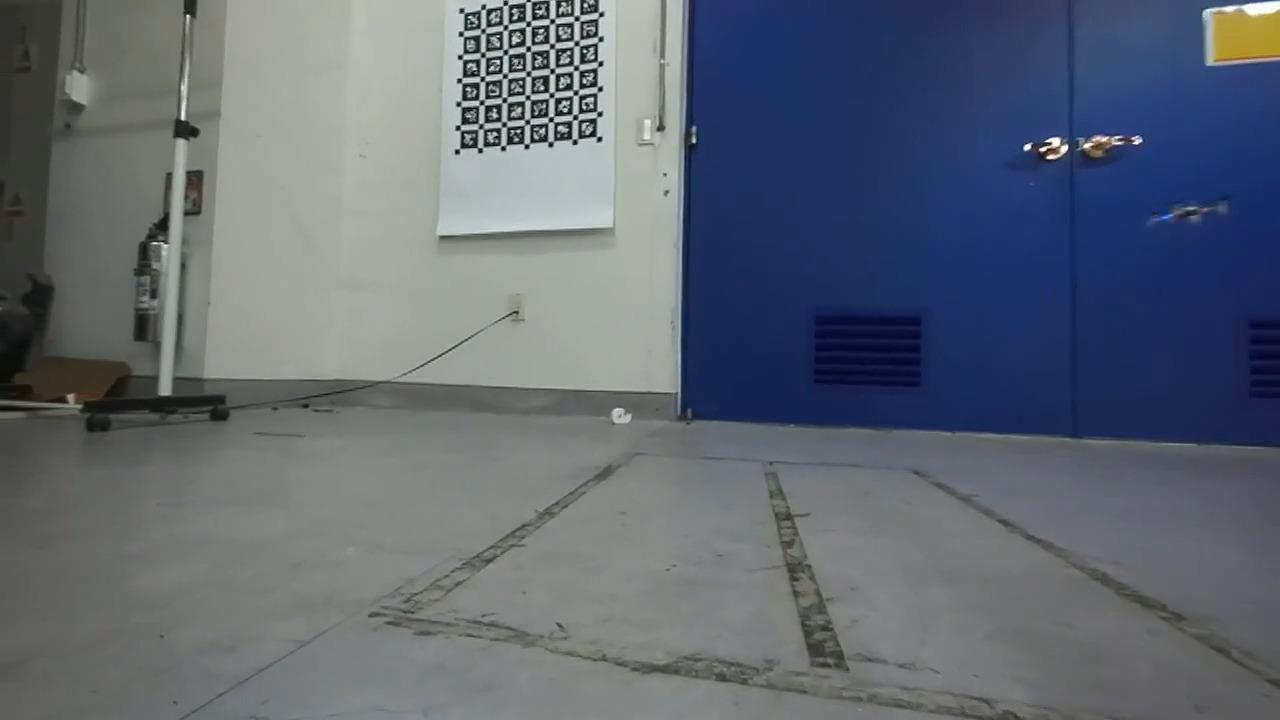crazyflie: (1143, 194, 1237, 231)
